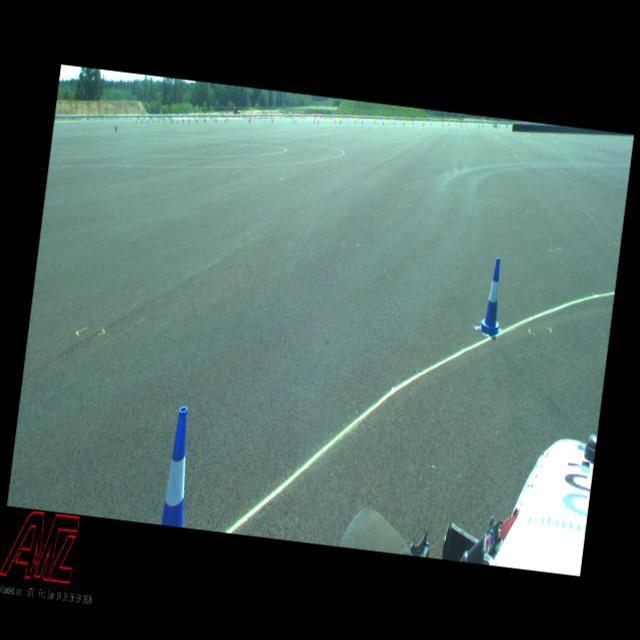blue_cone: (160, 406, 198, 528), (476, 256, 509, 338)
